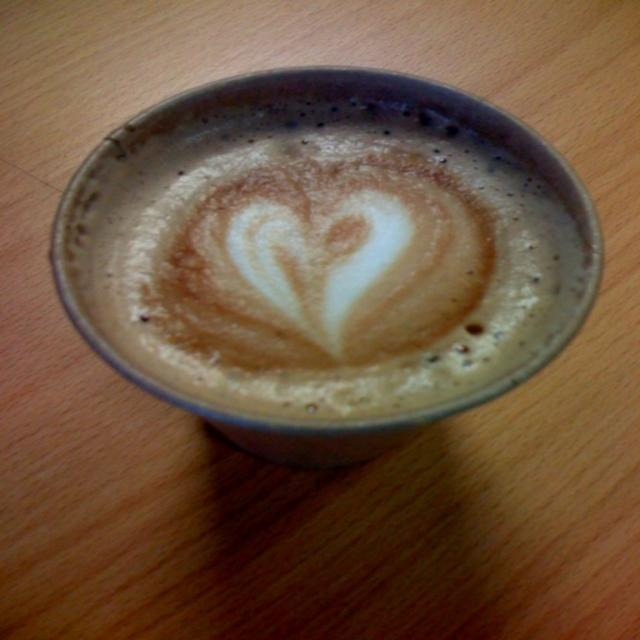latte: (46, 65, 606, 436)
